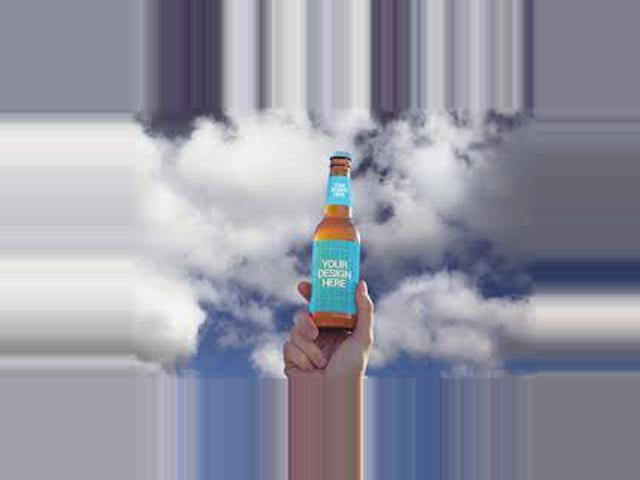beer: (314, 152, 360, 331)
